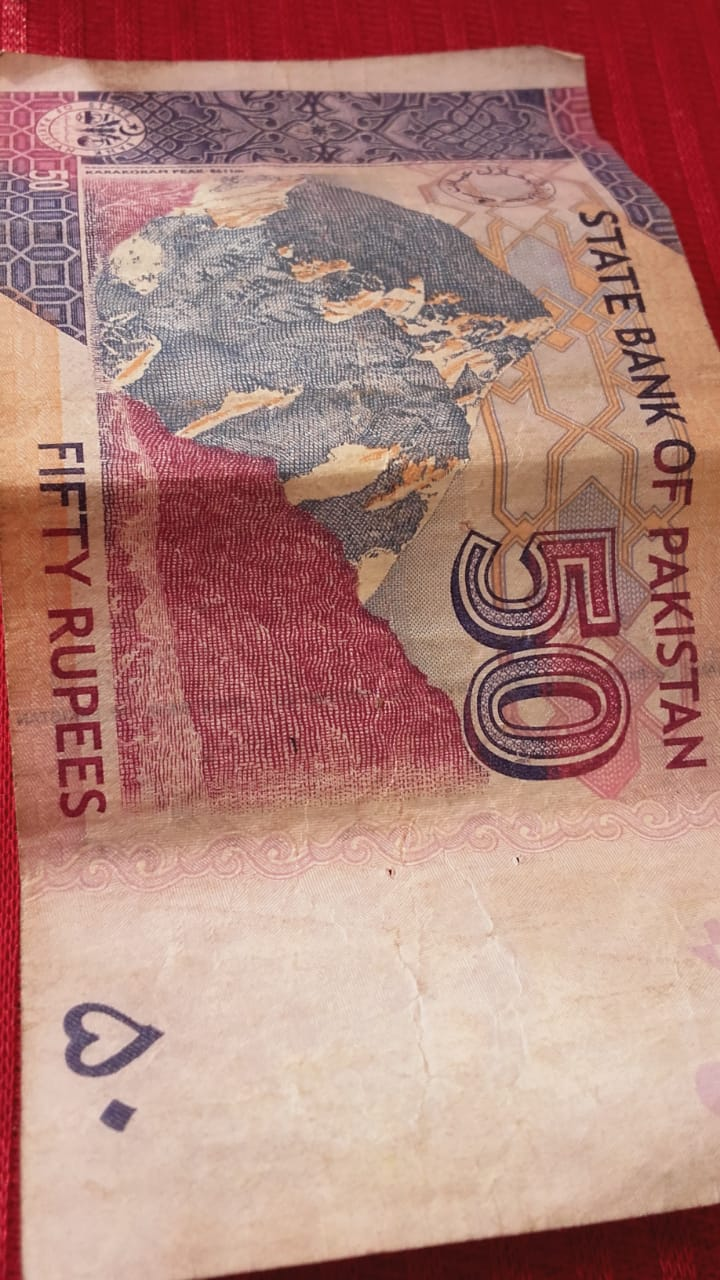50 rupee: (1, 49, 700, 1280)
